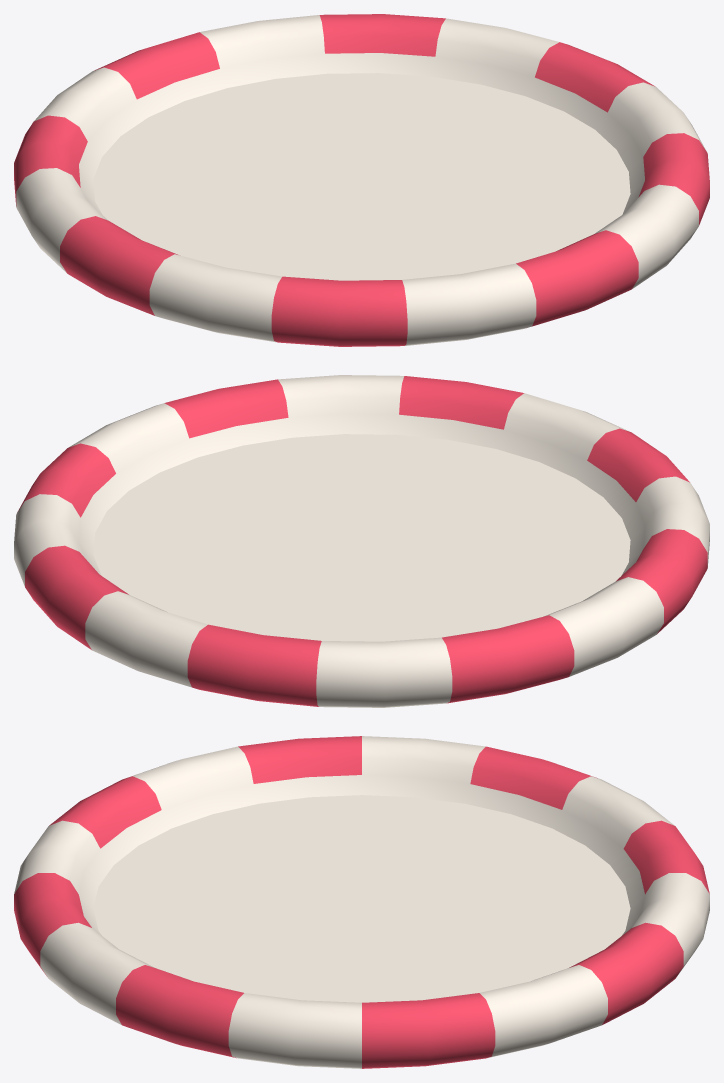
The model's file is menu_platform.glb.
The picture shows the model from 3 angles, top to bottom: view 1: azimuth 30°, elevation 25°; view 2: azimuth 150°, elevation 25°; view 3: azimuth 270°, elevation 25°; orthographic projection.
Parts seen in each view (by area): view 1: menu_platform; view 2: menu_platform; view 3: menu_platform.
Boxes of the visible parts, bbox=[...] form: menu_platform: bbox=[14, 14, 709, 346]; menu_platform: bbox=[14, 375, 709, 707]; menu_platform: bbox=[14, 736, 709, 1068].
Size of the model in its own units: 5.18 by 1.49 by 5.18.
